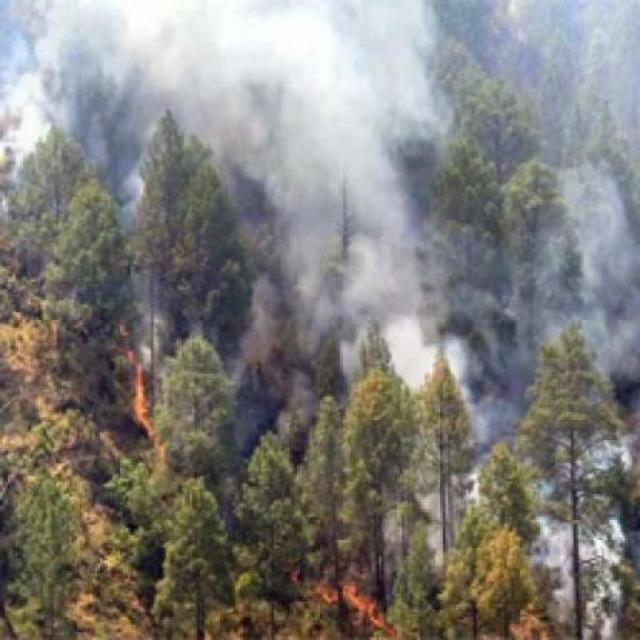Fire: (117, 311, 208, 514), (303, 528, 402, 638)
Smoke: (358, 260, 639, 532), (519, 545, 638, 640)
